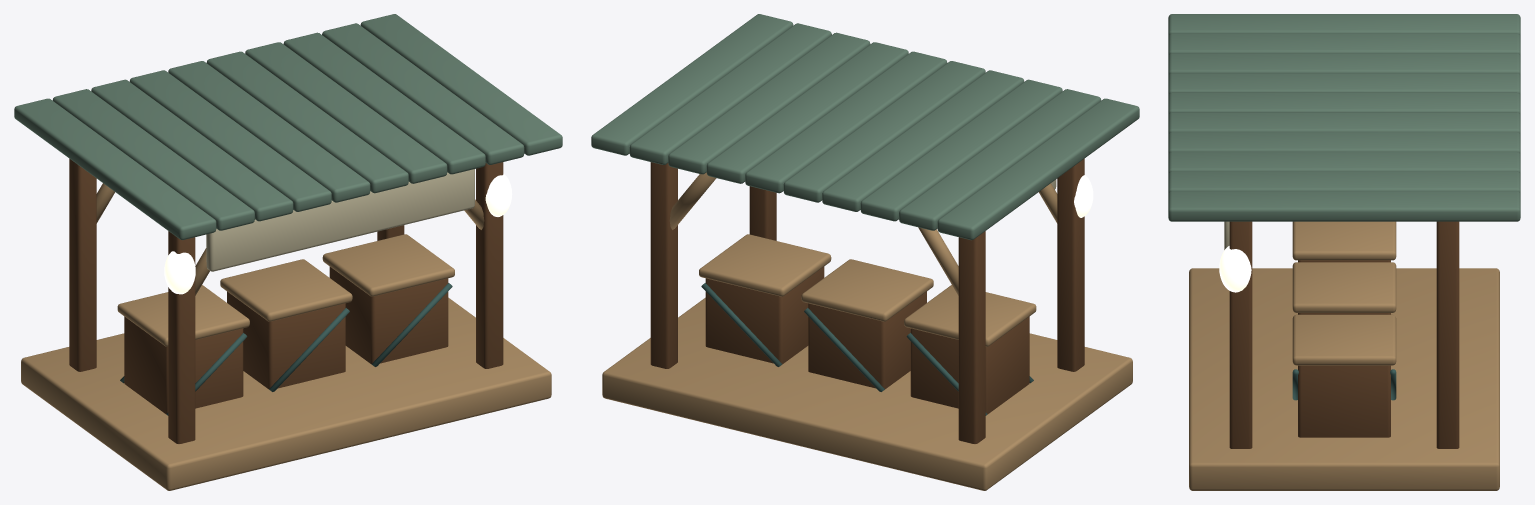
The model's file is logistics_depot.glb.
3 renders of one model, left to right at view 1: azimuth 30°, elevation 25°; view 2: azimuth 150°, elevation 25°; view 3: azimuth 270°, elevation 25°, orthographic. The views are drawn at different scales.
Parts seen in each view (by area): view 1: logistics_depot_part_0; view 2: logistics_depot_part_0; view 3: logistics_depot_part_0.
Part boxes in pixels (x1=…): logistics_depot_part_0: x1=14, y1=14, x2=562, y2=490; logistics_depot_part_0: x1=591, y1=14, x2=1139, y2=490; logistics_depot_part_0: x1=1168, y1=14, x2=1520, y2=490.
Size of the model in its own units: 4.52 by 3.03 by 3.4.
